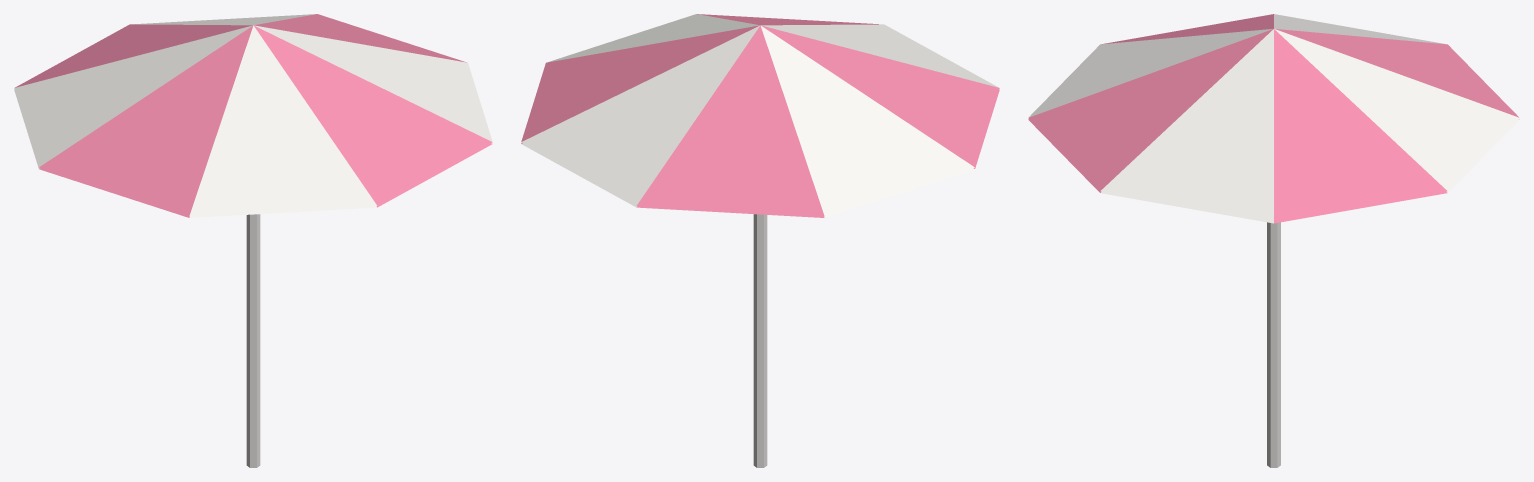
The model's file is BeachUmbrellaCoral.fbx.
3 renders of one model, left to right at view 1: azimuth 30°, elevation 25°; view 2: azimuth 150°, elevation 25°; view 3: azimuth 270°, elevation 25°, orthographic.
Parts seen in each view (by area): view 1: BeachUmbrellaCoral; view 2: BeachUmbrellaCoral; view 3: BeachUmbrellaCoral.
Boxes of the visible parts, bbox=[...] form: BeachUmbrellaCoral: bbox=[14, 14, 492, 467]; BeachUmbrellaCoral: bbox=[521, 14, 999, 467]; BeachUmbrellaCoral: bbox=[1028, 14, 1519, 467].
Size of the model in its own units: 2.5 by 2.45 by 2.5.
